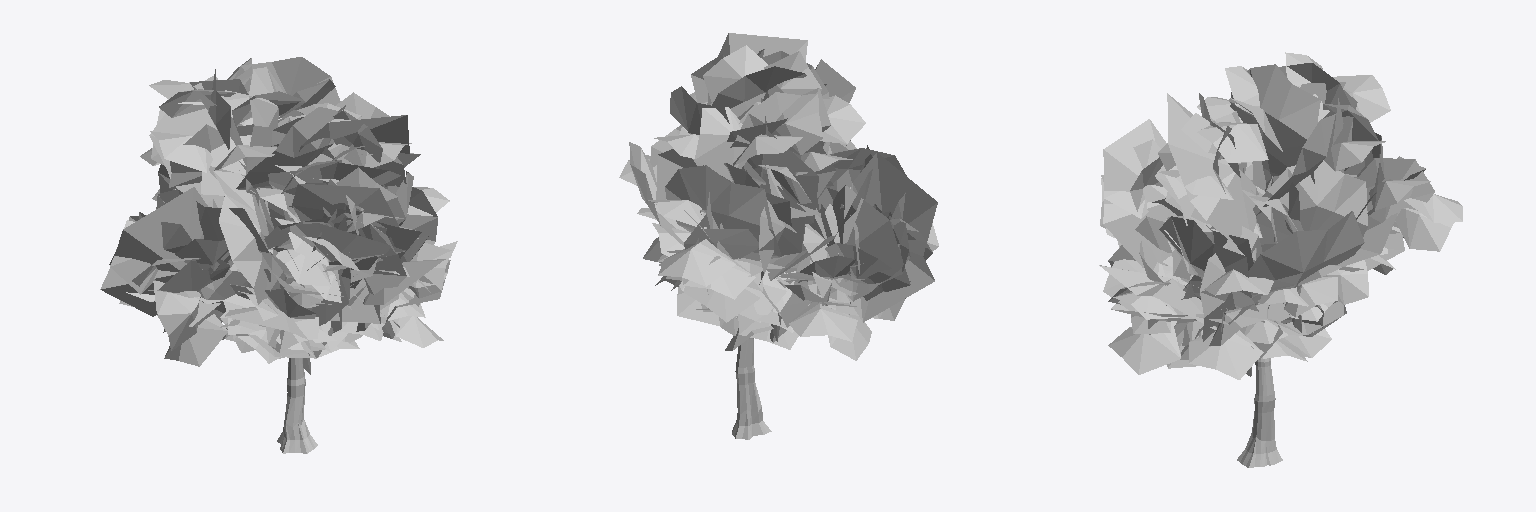
Rendered from tree_mango_var01.obj.
3 renders of one model, left to right at view 1: azimuth 30°, elevation 25°; view 2: azimuth 150°, elevation 25°; view 3: azimuth 270°, elevation 25°, orthographic.
Visible parts, largest first — view 1: tree_mango_01; view 2: tree_mango_01; view 3: tree_mango_01.
Boxes of the visible parts, x1=… form: tree_mango_01: x1=100, y1=57, x2=457, y2=453; tree_mango_01: x1=619, y1=33, x2=938, y2=439; tree_mango_01: x1=1099, y1=52, x2=1462, y2=467.
Bounding box in the file's own units: 243 × 272 × 238.